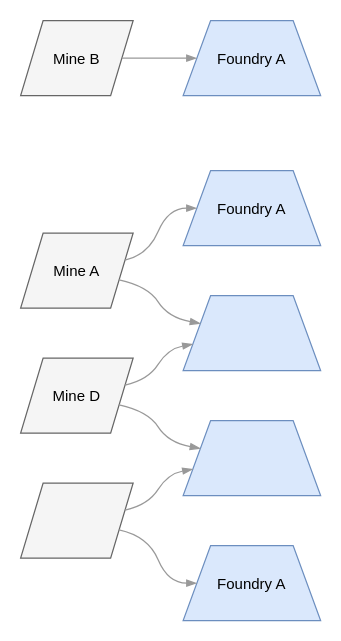
Some shapes in this 341 by 641 pixel diagram are drawn without their labels. The centre of each missing label's shape, as x and y in pixels:
"Foundry B" goes at point (251, 457).
"Foundry C" goes at point (251, 332).
"Mine C" goes at point (76, 520).
